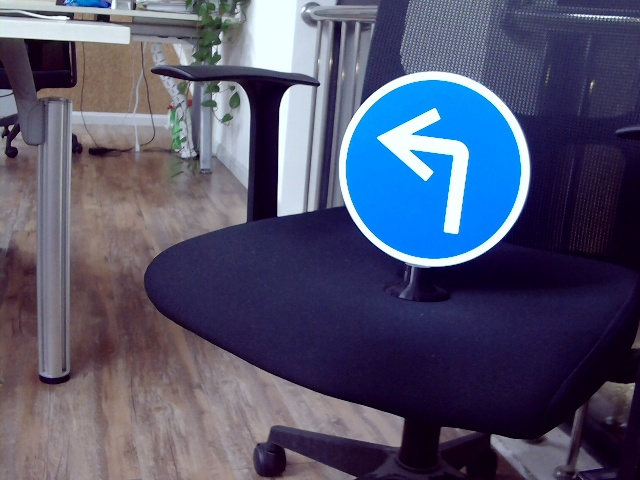turn_left: (376, 106, 480, 232)
